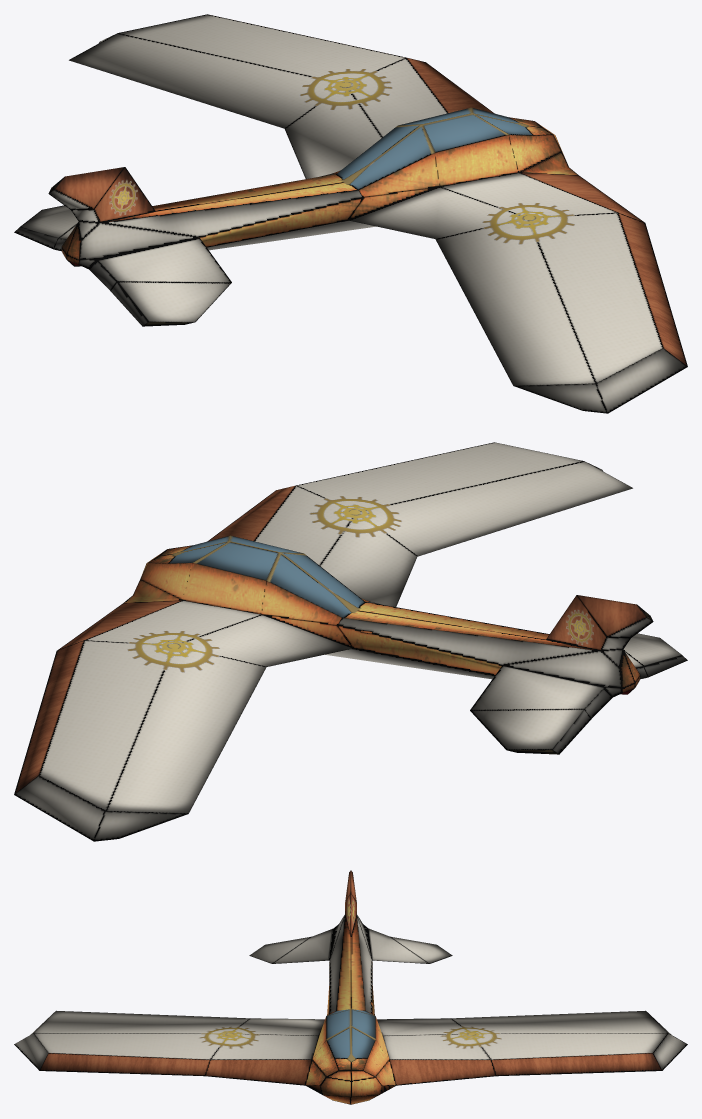
The model's file is papership-dae.dae.
The picture shows the model from 3 angles, top to bottom: view 1: azimuth 30°, elevation 25°; view 2: azimuth 150°, elevation 25°; view 3: azimuth 270°, elevation 25°; orthographic projection. The views are drawn at different scales.
Parts seen in each view (by area): view 1: Cube; view 2: Cube; view 3: Cube.
Part boxes in pixels (bbox=[...]): Cube: bbox=[14, 14, 687, 413]; Cube: bbox=[14, 442, 687, 841]; Cube: bbox=[14, 870, 687, 1104].
Bounding box in the file's own units: 10.02 × 17.4 × 2.37.
1 material, 1 textured.
